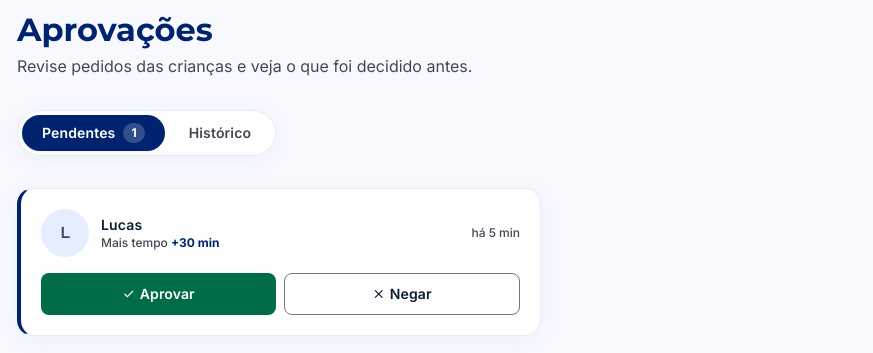
Approvals page › switches to histórico tab and shows decided
Click the button "Histórico" at (220, 133), box x1=169 y1=115 x2=271 y2=151
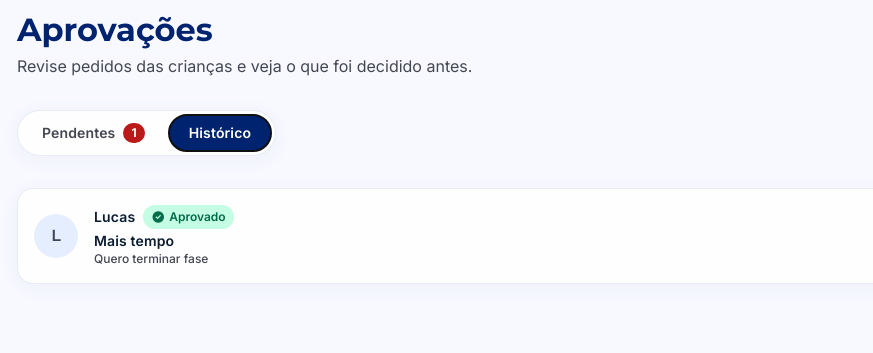
Check: the text "Aprovado" is shown, box x1=143 y1=205 x2=234 y2=229
